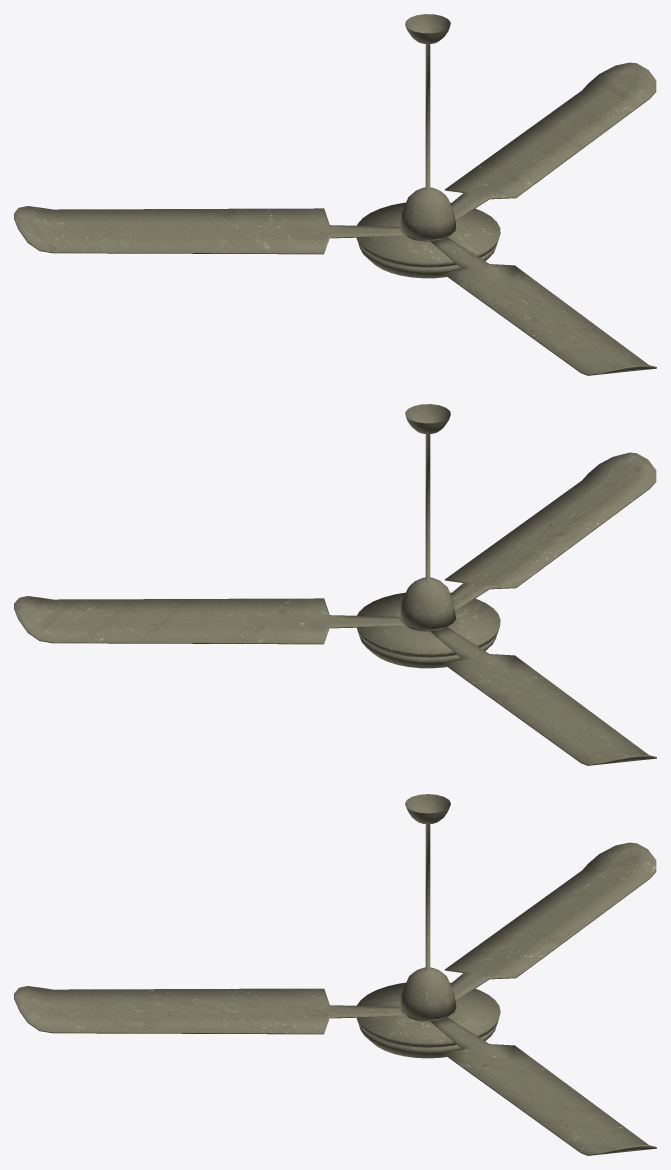
Rendered from ceiling_fan.glb.
3 renders of one model, top to bottom at view 1: azimuth 30°, elevation 25°; view 2: azimuth 150°, elevation 25°; view 3: azimuth 270°, elevation 25°, orthographic.
Visible parts, largest first — view 1: Cylinder.001_4, Cone_3, Cylinder_2; view 2: Cylinder.001_4, Cone_3, Cylinder_2; view 3: Cylinder.001_4, Cone_3, Cylinder_2.
Part boxes in pixels (bbox=[...]): Cylinder.001_4: bbox=[14, 62, 656, 375]; Cone_3: bbox=[399, 14, 456, 239]; Cylinder_2: bbox=[358, 235, 497, 278]; Cylinder.001_4: bbox=[14, 452, 656, 765]; Cone_3: bbox=[399, 404, 456, 629]; Cylinder_2: bbox=[358, 625, 497, 668]; Cylinder.001_4: bbox=[14, 842, 656, 1155]; Cone_3: bbox=[399, 794, 456, 1019]; Cylinder_2: bbox=[358, 1015, 497, 1058].
Size of the model in its own units: 1.41 by 0.5011 by 1.25.
1 material, 1 textured.
